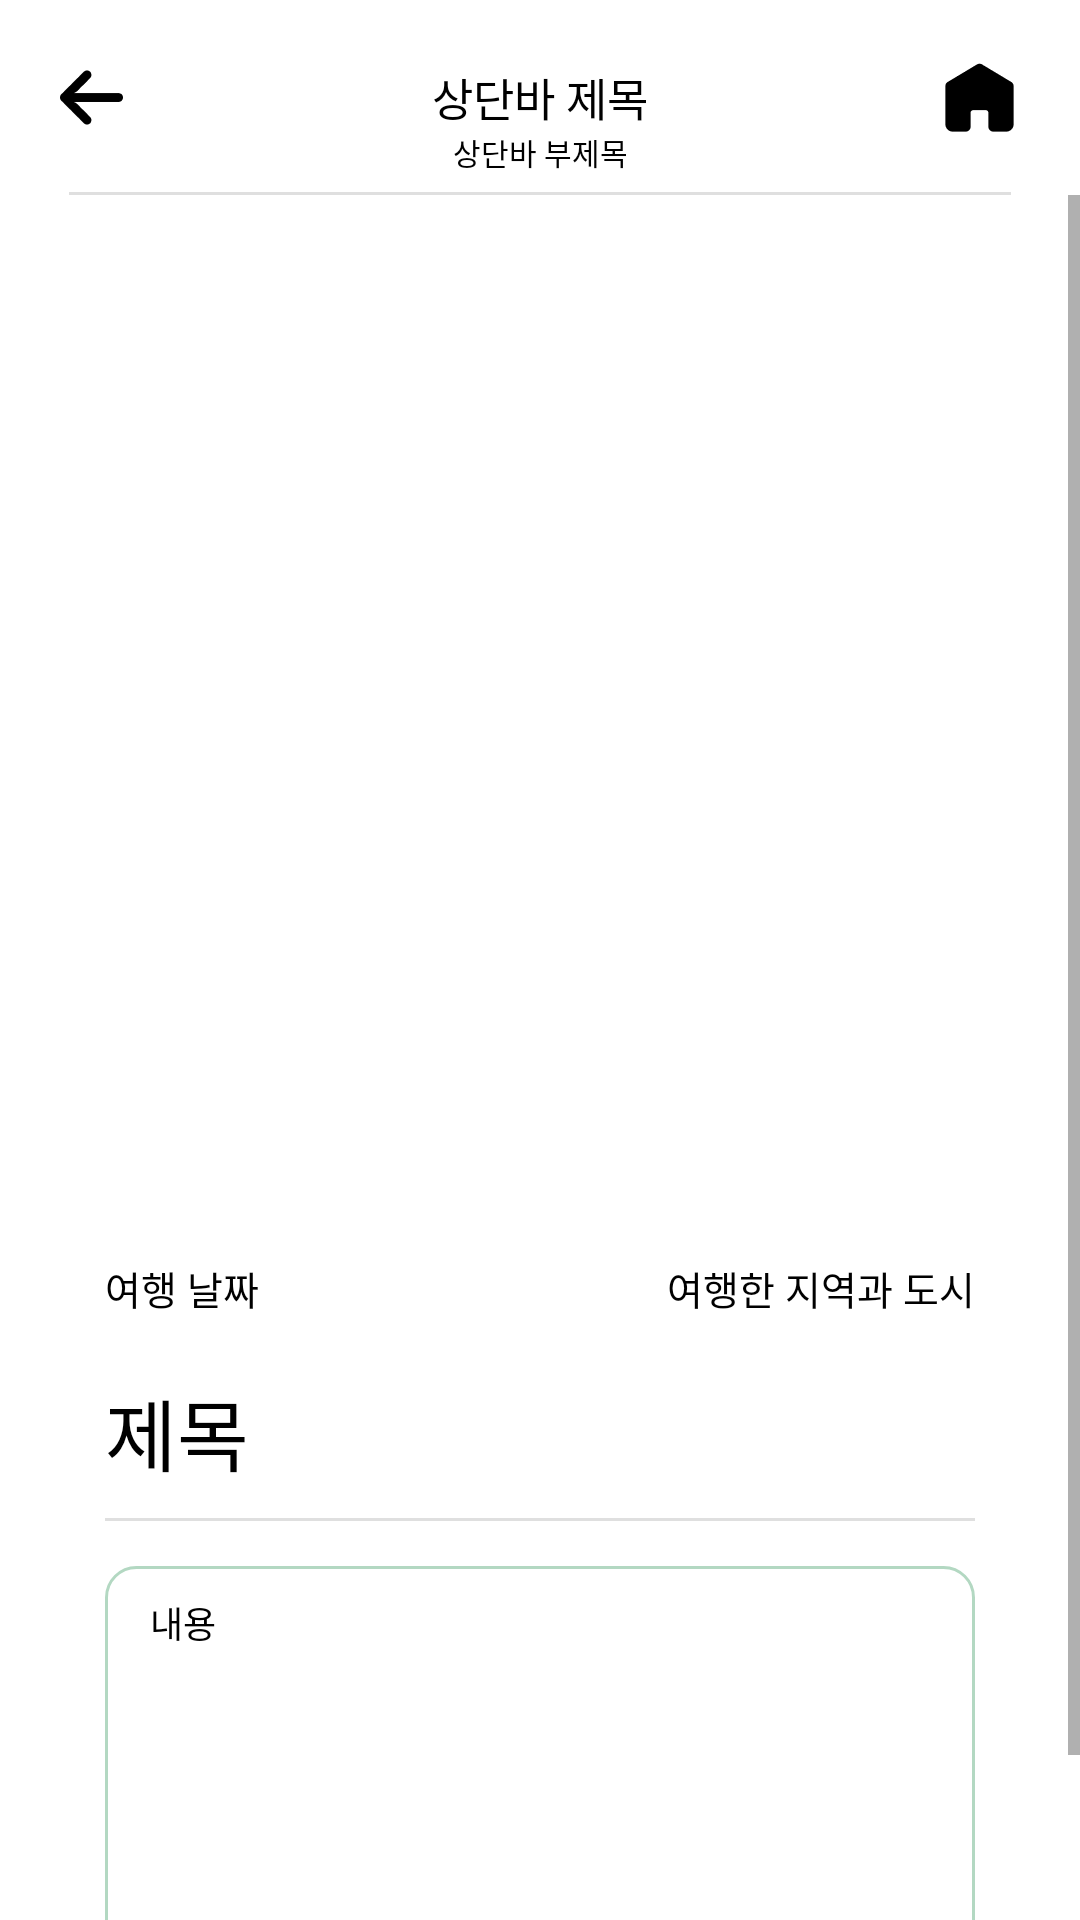

Named icons in this screenshot (1080px×1920px) and their bounding boxes, (x1, y1, x2, y2):
base back: (60, 70, 123, 125)
base home: (945, 63, 1014, 132)
